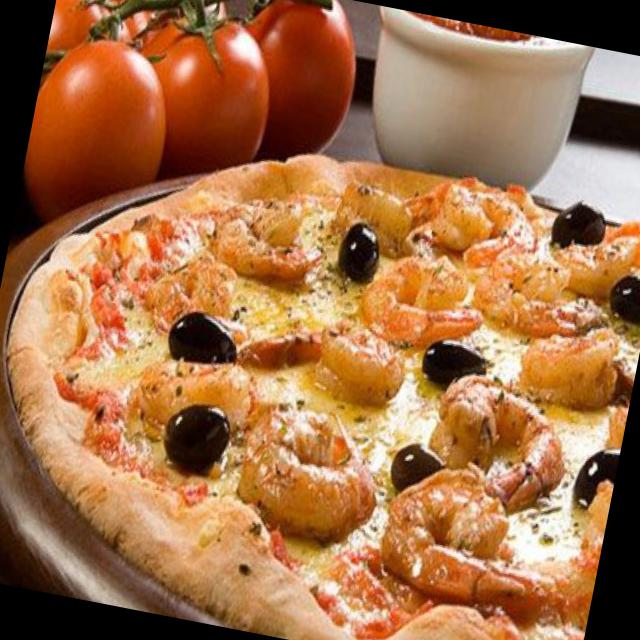camarao: (372, 460, 568, 620), (228, 400, 392, 558), (424, 370, 580, 510), (358, 236, 492, 356), (120, 335, 254, 446), (196, 196, 328, 298), (509, 314, 639, 417)
pizza: (0, 100, 639, 639)
